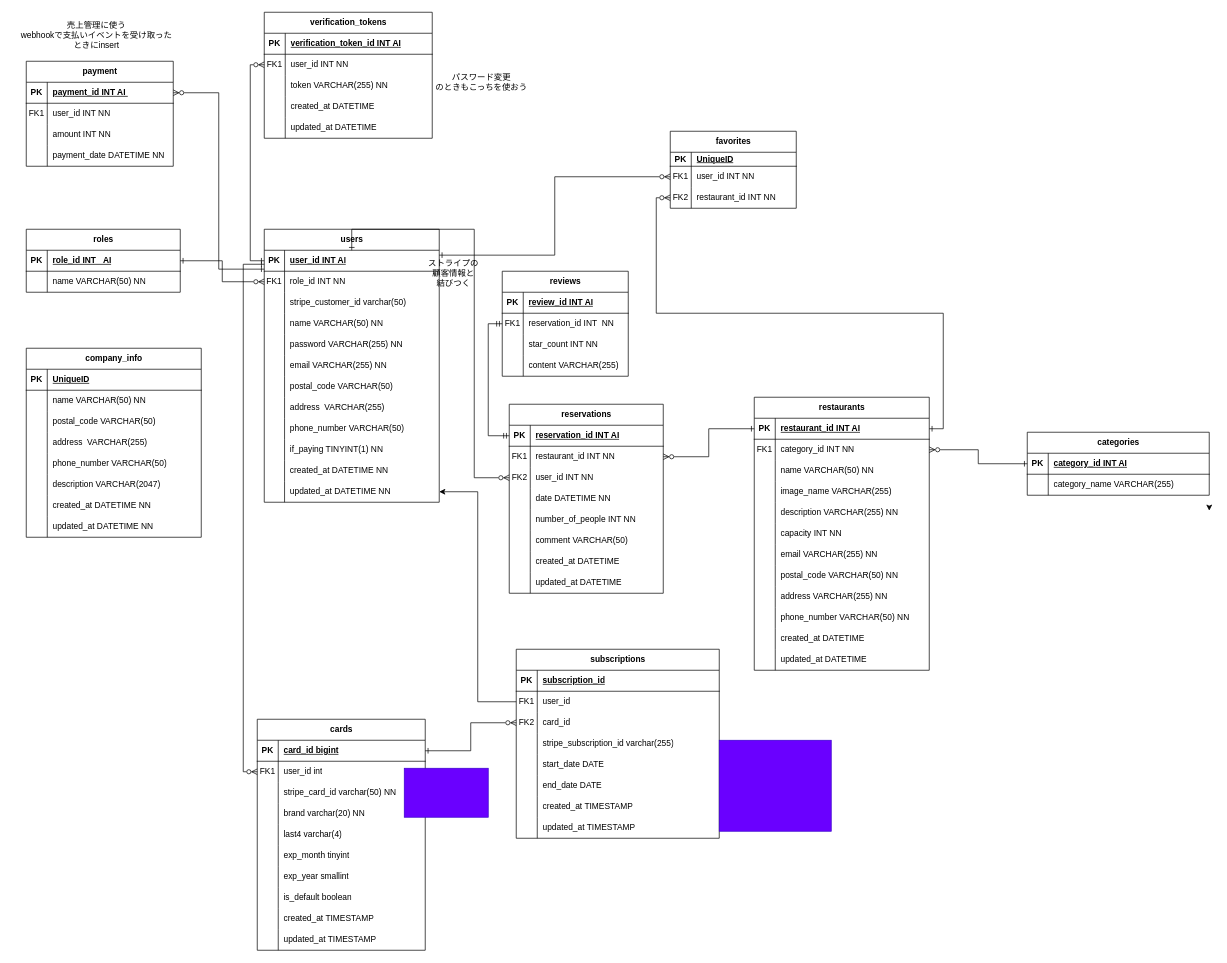
Image size: 1227x963. Some labels were removed from this diagram. Here are the shapes that lost their labels. From the top down, the centre of each, then its label:
the point at 446,792: user_idと stripe_card_idを 複合UNIQUEキー に設定
the point at 775,785: 一人のユーザー がサブスクを一度 停止して開始 したら、新たなレコード を生成するように する。updateとしては card_idの変更 が主に考えられる。
